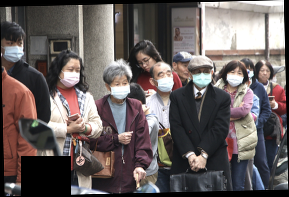with_mask: (2, 37, 25, 64), (60, 64, 82, 89), (109, 77, 131, 101), (156, 68, 175, 93), (191, 68, 213, 88), (225, 69, 245, 88), (245, 66, 255, 81)
without_mask: (135, 55, 155, 73), (256, 65, 272, 83), (178, 60, 191, 81)
